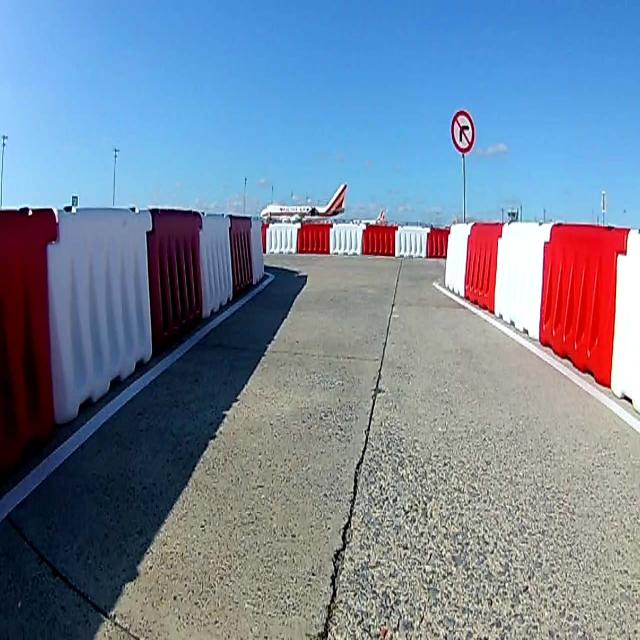sagadonulmez: (452, 111, 474, 153)
